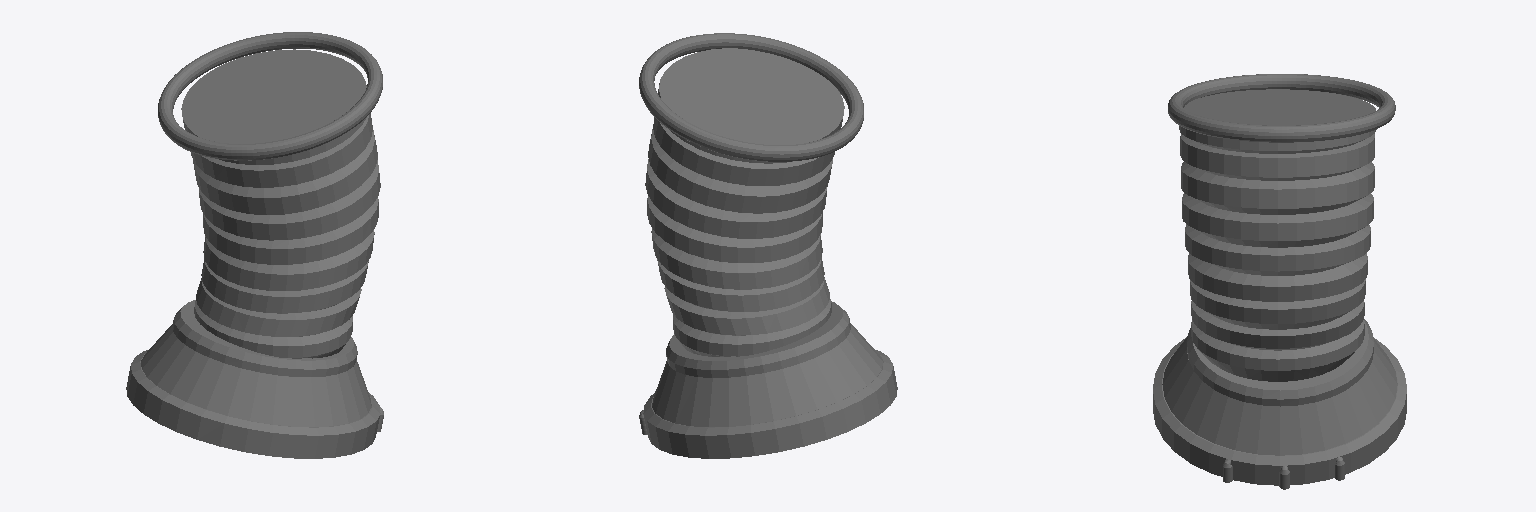
Rendered from trasera_der.obj.
The picture shows the model from 3 angles: view 1: azimuth 30°, elevation 25°; view 2: azimuth 150°, elevation 25°; view 3: azimuth 270°, elevation 25°; orthographic projection.
Parts seen in each view (by area): view 1: C_rculo_007_C_rculo_008, C_rculo_015_C_rculo_016, C_rculo_014_C_rculo_015, C_rculo_004, C_rculo_016_C_rculo_017; view 2: C_rculo_007_C_rculo_008, C_rculo_015_C_rculo_016, C_rculo_014_C_rculo_015, C_rculo_004, C_rculo_016_C_rculo_017; view 3: C_rculo_007_C_rculo_008, C_rculo_015_C_rculo_016, C_rculo_014_C_rculo_015, C_rculo_004, C_rculo_016_C_rculo_017, Cilindro_001_Cilindro_006.
Part boxes in pixels (bbox=[...]): C_rculo_007_C_rculo_008: bbox=[181, 49, 380, 358]; C_rculo_015_C_rculo_016: bbox=[141, 324, 371, 426]; C_rculo_014_C_rculo_015: bbox=[126, 350, 380, 458]; C_rculo_004: bbox=[158, 32, 382, 160]; C_rculo_016_C_rculo_017: bbox=[172, 300, 357, 376]; C_rculo_007_C_rculo_008: bbox=[645, 48, 844, 356]; C_rculo_015_C_rculo_016: bbox=[652, 324, 882, 426]; C_rculo_014_C_rculo_015: bbox=[643, 350, 897, 458]; C_rculo_004: bbox=[639, 33, 863, 161]; C_rculo_016_C_rculo_017: bbox=[666, 301, 850, 377]; C_rculo_007_C_rculo_008: bbox=[1179, 89, 1376, 381]; C_rculo_015_C_rculo_016: bbox=[1162, 336, 1397, 455]; C_rculo_014_C_rculo_015: bbox=[1153, 337, 1406, 485]; C_rculo_004: bbox=[1168, 74, 1395, 142]; C_rculo_016_C_rculo_017: bbox=[1187, 319, 1373, 406]; Cilindro_001_Cilindro_006: bbox=[1223, 457, 1344, 489].
Bounding box in the file's own units: 1.05 × 1.62 × 1.03.